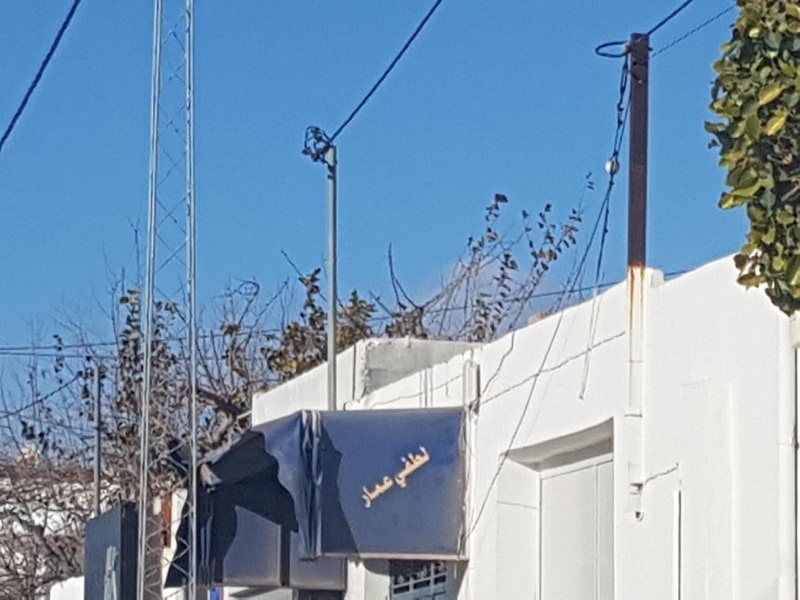text: (401, 440, 416, 491), (417, 440, 432, 491), (369, 470, 384, 511), (354, 470, 368, 511), (389, 440, 400, 491), (385, 470, 396, 511), (433, 440, 437, 491)
